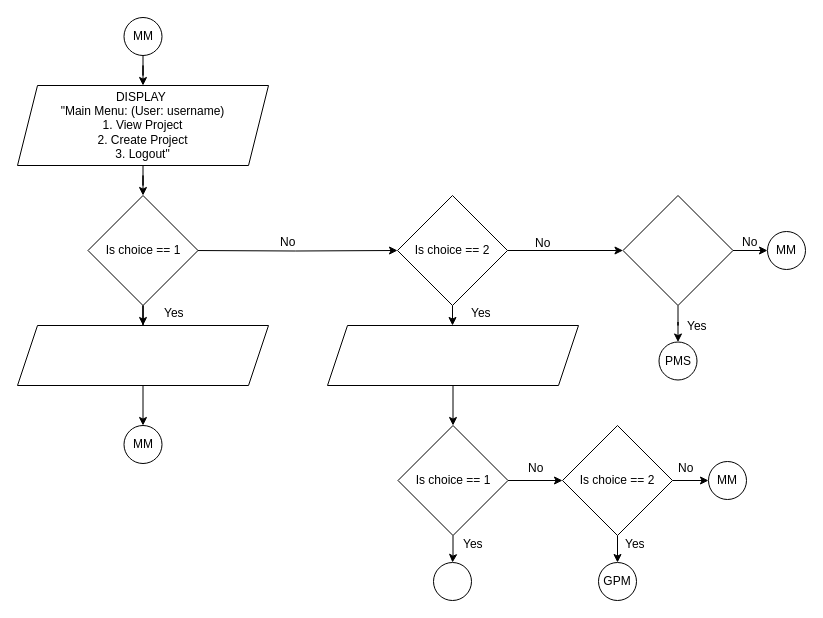
This 823x618 diagram has some shape labels left out. The centre of each missing label's shape, as x and y in pixels:
DISPLAY "1. Solo Project 2. Group Project": (x=452, y=355)
Is choice == 3: (x=677, y=250)
SHOW Projects: (x=142, y=355)
SPM: (x=452, y=581)
